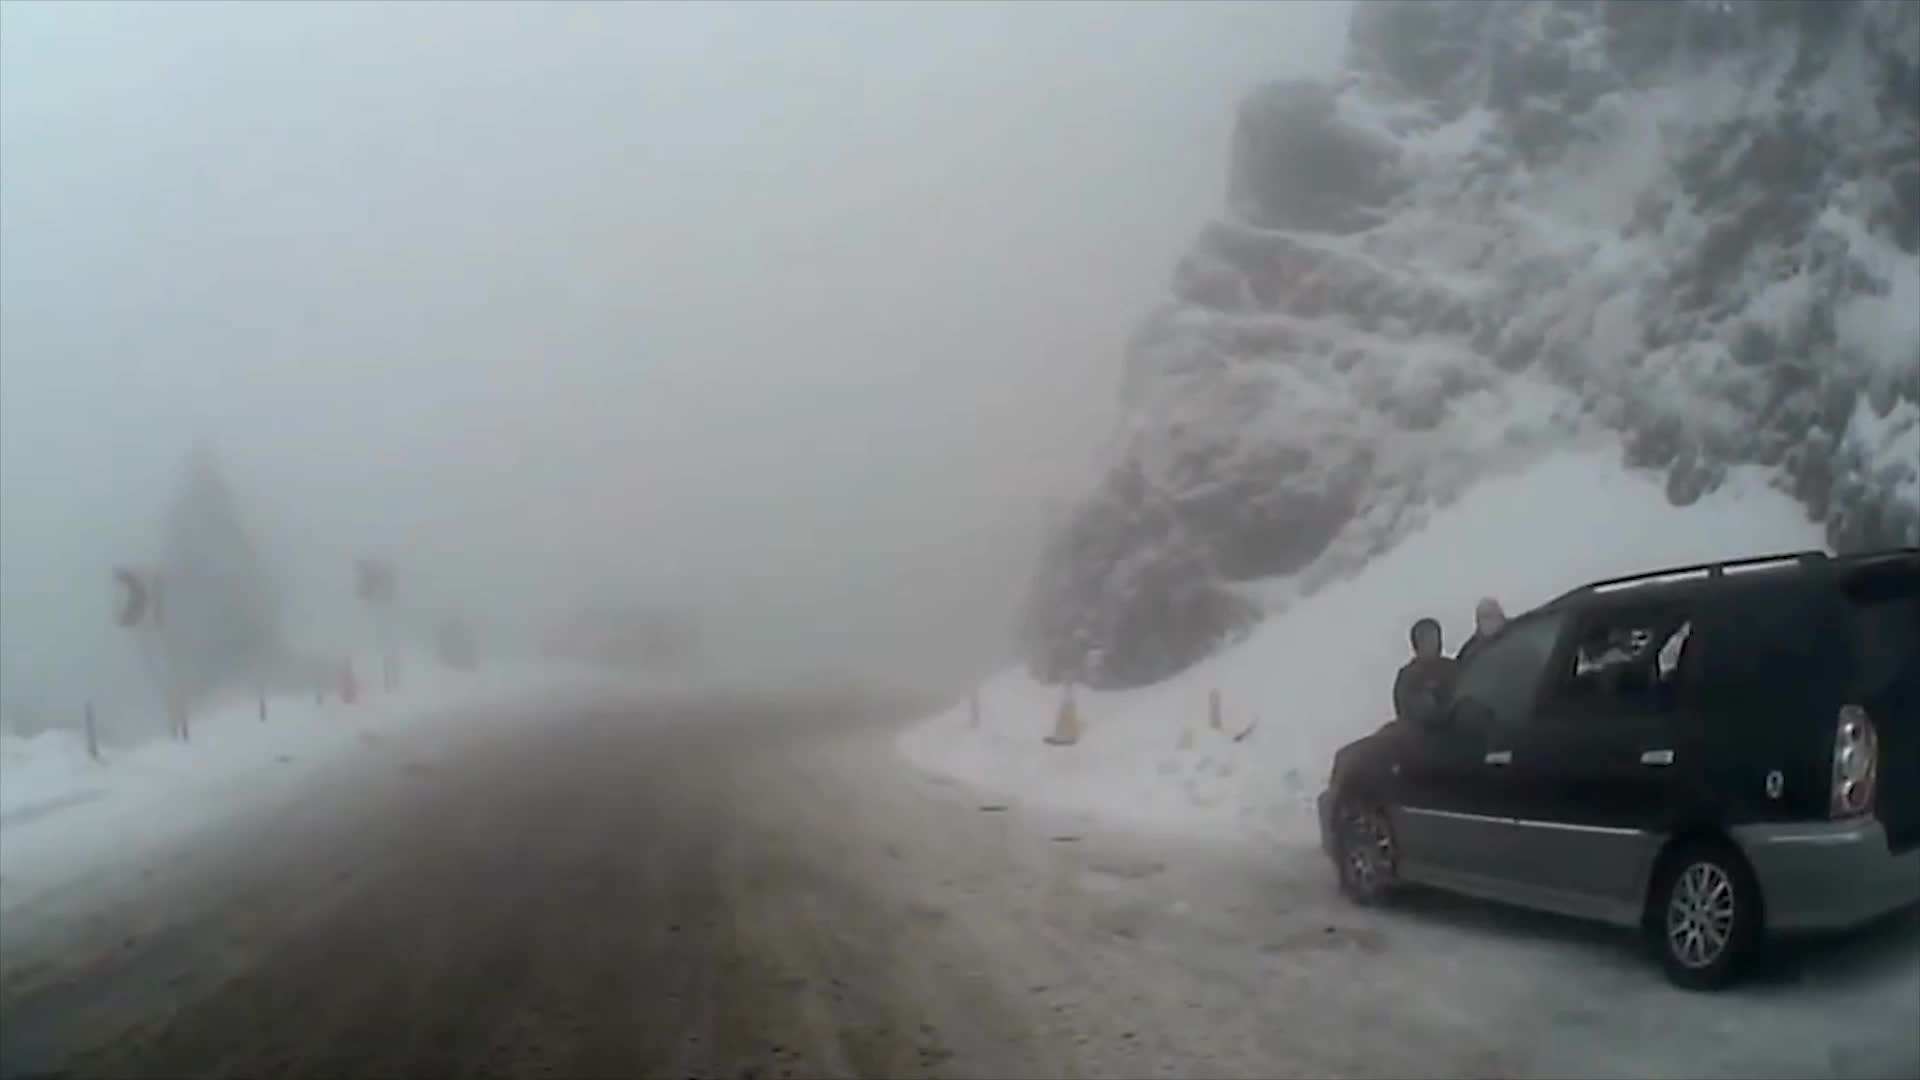pedestrian: (1391, 613, 1464, 868)
vehicle: (1315, 540, 1918, 994)
